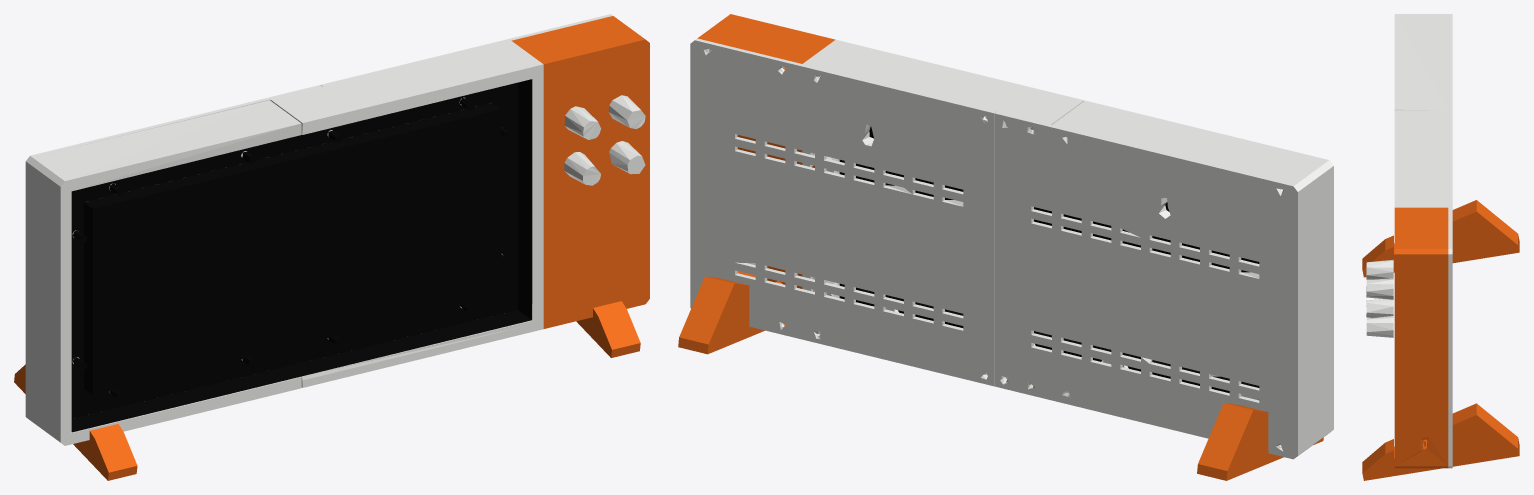
Rendered from light.glb.
3 views of the same model, side by side, from view 1: azimuth 30°, elevation 25°; view 2: azimuth 150°, elevation 25°; view 3: azimuth 270°, elevation 25° (orthographic). The views are drawn at different scales.
Visible parts, largest first — view 1: l, body; view 2: body, l; view 3: body.
Boxes of the visible parts, <box> form: l: <box>71,82,517,418</box>; body: <box>14,14,649,480</box>; body: <box>678,14,1333,480</box>; l: <box>839,126,1259,393</box>; body: <box>1362,14,1519,480</box>.
Size of the model in its own units: 41.03 by 19.43 by 11.43.
